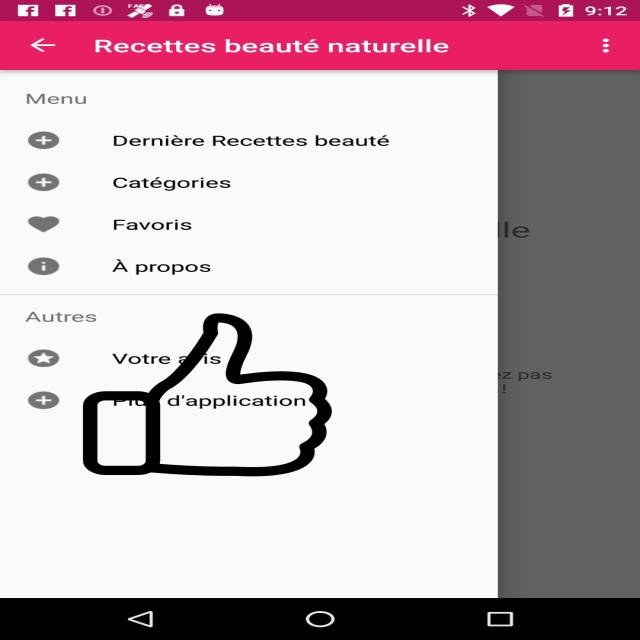privacy zuckering: (80, 314, 336, 476)
